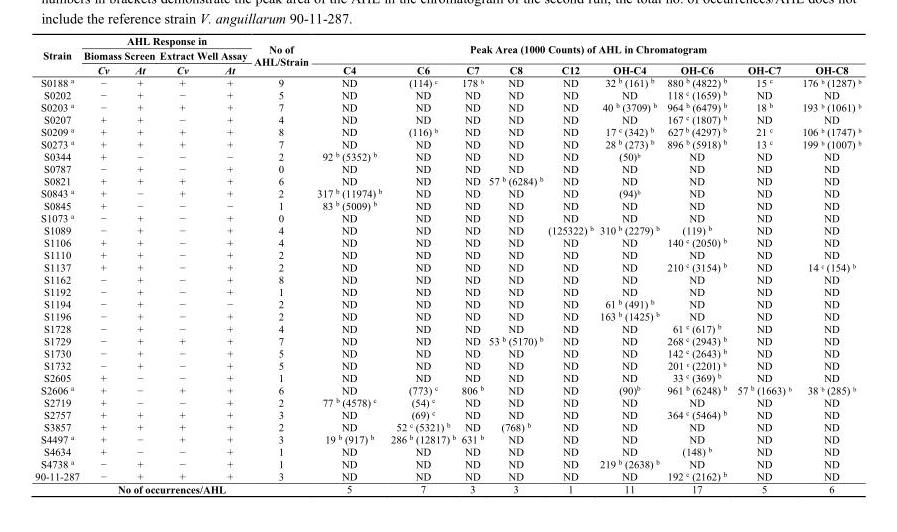table: (34, 34, 860, 494)
table column: (312, 34, 385, 494), (385, 34, 458, 494), (662, 34, 731, 494), (595, 34, 662, 494), (731, 34, 796, 494), (796, 34, 860, 494), (249, 34, 312, 494), (485, 34, 544, 494), (544, 34, 595, 494), (156, 34, 205, 494), (34, 34, 80, 494), (205, 34, 249, 494), (80, 34, 121, 494), (121, 34, 156, 494), (458, 34, 485, 494)
table column header: (34, 34, 860, 75)
table row: (34, 47, 860, 62), (34, 34, 860, 47), (34, 62, 860, 75), (34, 75, 860, 88), (34, 112, 860, 125), (34, 149, 860, 162), (34, 198, 860, 211), (34, 235, 860, 248), (34, 272, 860, 285), (34, 321, 860, 334), (34, 346, 860, 359), (34, 395, 860, 408), (34, 444, 860, 457), (34, 469, 860, 482), (34, 88, 860, 100), (34, 100, 860, 112), (34, 125, 860, 137), (34, 137, 860, 149), (34, 162, 860, 174), (34, 174, 860, 186), (34, 186, 860, 198), (34, 211, 860, 223), (34, 223, 860, 235), (34, 248, 860, 260), (34, 260, 860, 272), (34, 285, 860, 297), (34, 297, 860, 309), (34, 309, 860, 321), (34, 334, 860, 346), (34, 359, 860, 371), (34, 371, 860, 383), (34, 383, 860, 395), (34, 408, 860, 420), (34, 420, 860, 432), (34, 432, 860, 444), (34, 457, 860, 469), (34, 482, 860, 494)
table spanning cell: (312, 34, 860, 62), (34, 482, 312, 494), (249, 34, 312, 75), (80, 34, 249, 47), (34, 34, 80, 75), (156, 47, 249, 62), (80, 47, 156, 62)
